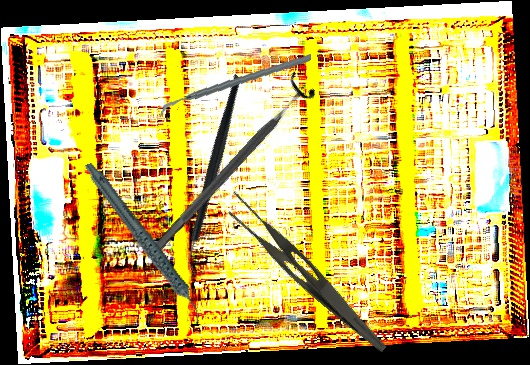Chopper: (126, 73, 306, 278), (159, 40, 312, 131)
Dressing Forceps: (214, 188, 403, 354)
Fixation Ring: (143, 70, 320, 261)
Handpiece: (82, 146, 204, 340)
